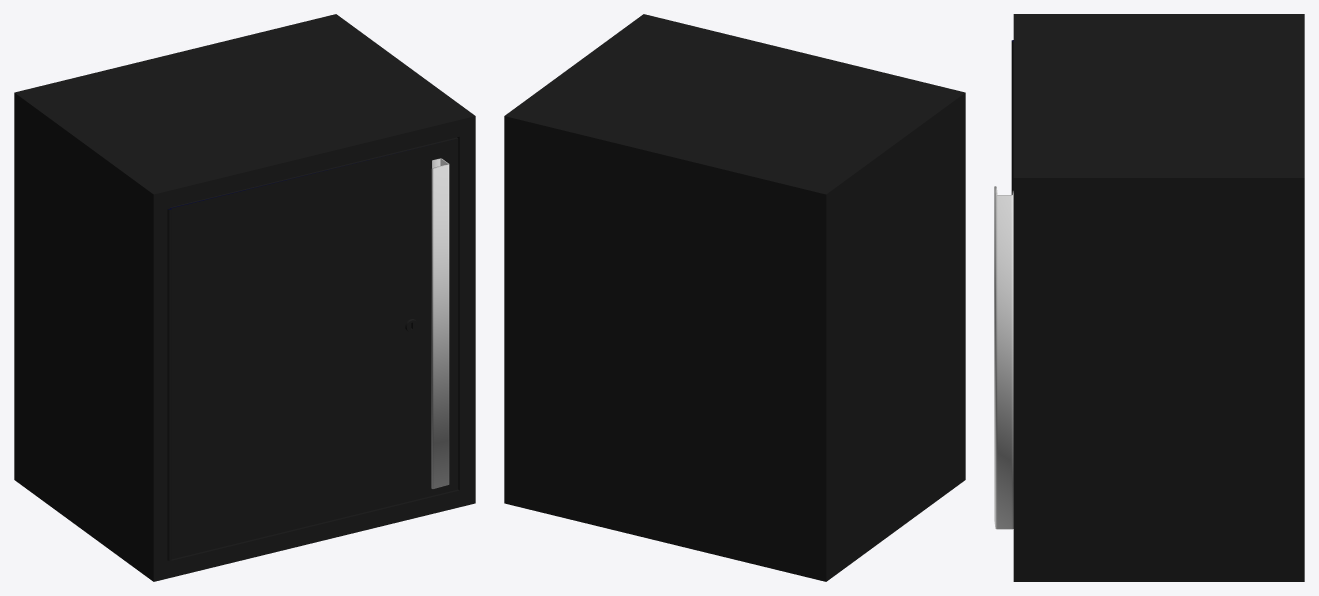
The model's file is rightWallMount20.glb.
The picture shows the model from 3 angles, left to right: view 1: azimuth 30°, elevation 25°; view 2: azimuth 150°, elevation 25°; view 3: azimuth 270°, elevation 25°; orthographic projection. The views are drawn at different scales.
Visible parts, largest first — view 1: shellFp, doors, handlesFp, hingeFp; view 2: shellFp; view 3: shellFp, handlesFp, hingeFp.
Boxes of the visible parts, x1=… form: shellFp: x1=14, y1=14, x2=475, y2=581; doors: x1=168, y1=137, x2=458, y2=559; handlesFp: x1=431, y1=158, x2=449, y2=488; hingeFp: x1=167, y1=209, x2=171, y2=560; shellFp: x1=504, y1=14, x2=965, y2=581; shellFp: x1=1013, y1=14, x2=1304, y2=581; handlesFp: x1=994, y1=186, x2=1013, y2=529; hingeFp: x1=1011, y1=41, x2=1013, y2=194.
Size of the model in its own units: 0.508 by 0.5842 by 0.4064.
Materials: 4 (1 with a texture image).
